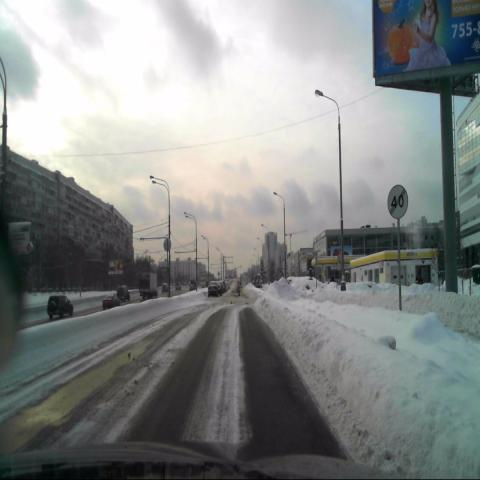3_25: (386, 183, 408, 220)
